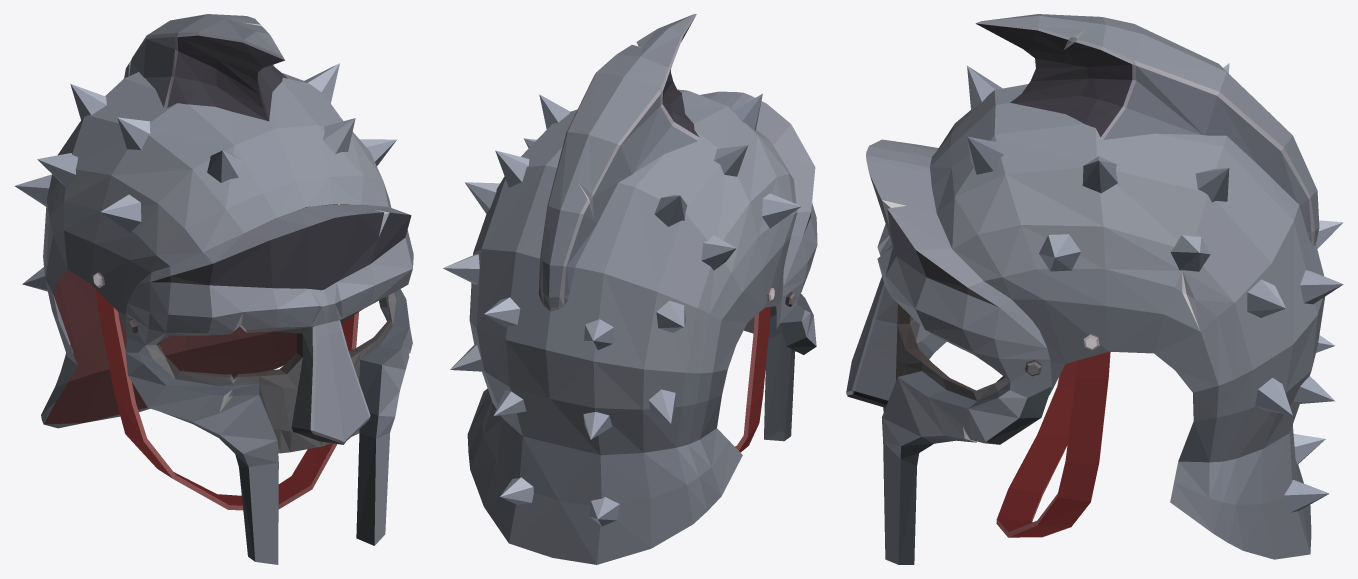
File: maximusHelmet.glb
3 views of the same model, side by side, from view 1: azimuth 30°, elevation 25°; view 2: azimuth 150°, elevation 25°; view 3: azimuth 270°, elevation 25° (orthographic). The views are drawn at different scales.
Parts seen in each view (by area): view 1: maximusHelmet, maximusHelmetVisor; view 2: maximusHelmet, maximusHelmetVisor; view 3: maximusHelmet, maximusHelmetVisor.
Boxes of the visible parts, box(x1,y1,x2,y2) form: maximusHelmet: box(15, 14, 396, 510); maximusHelmetVisor: box(125, 204, 413, 564); maximusHelmet: box(443, 14, 801, 564); maximusHelmetVisor: box(700, 91, 817, 441); maximusHelmet: box(930, 14, 1343, 559); maximusHelmetVisor: box(846, 139, 1051, 564).
Size of the model in its own units: 0.2631 by 0.4027 by 0.35.
